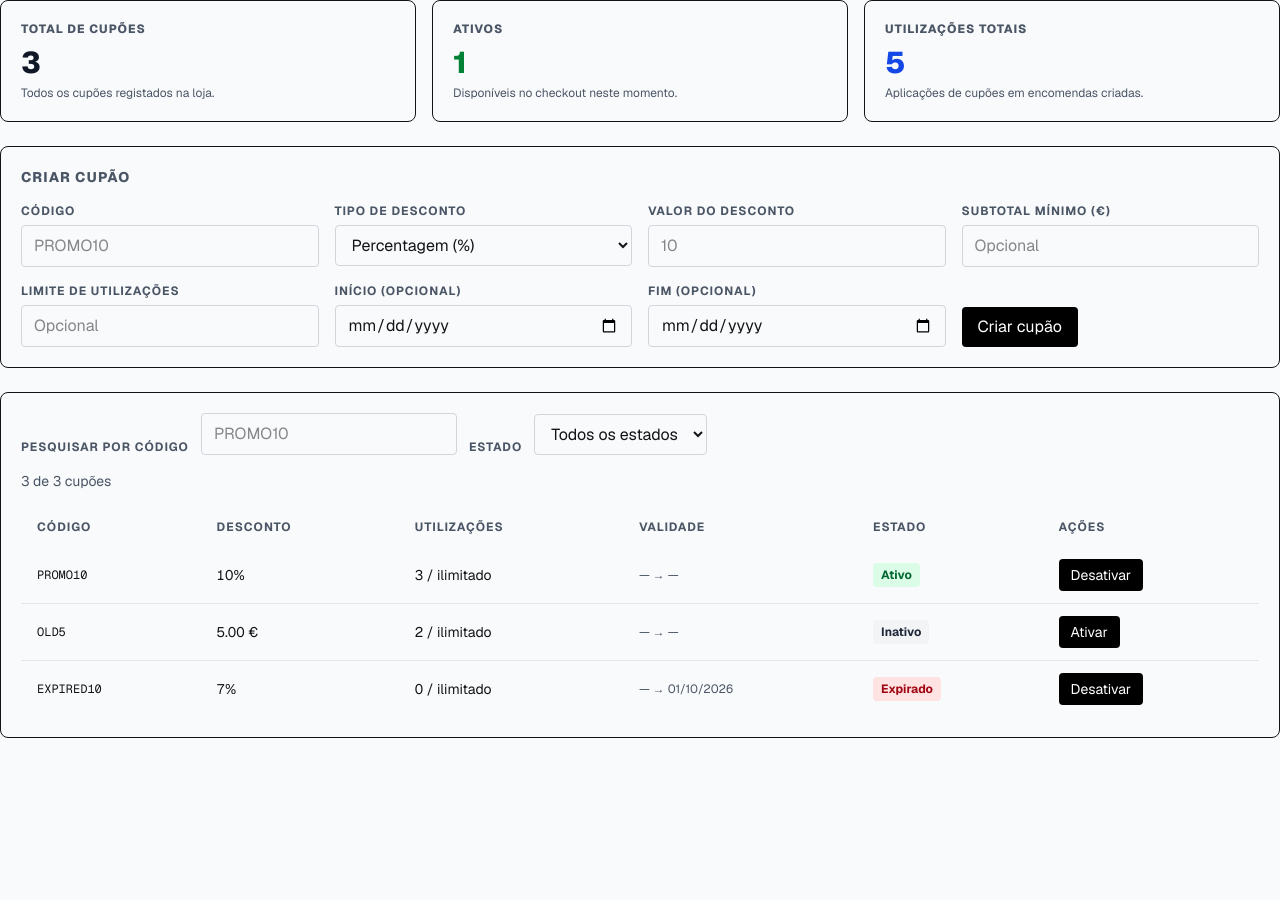
Test: Admin Coupons Client › filtra por estado e termo de pesquisa
Expected: the text "PROMO10" is shown, [21,547,201,604]
Select "Ativo" in the dropdown labelled "Estado" at [621, 434], box [534,414,707,455]
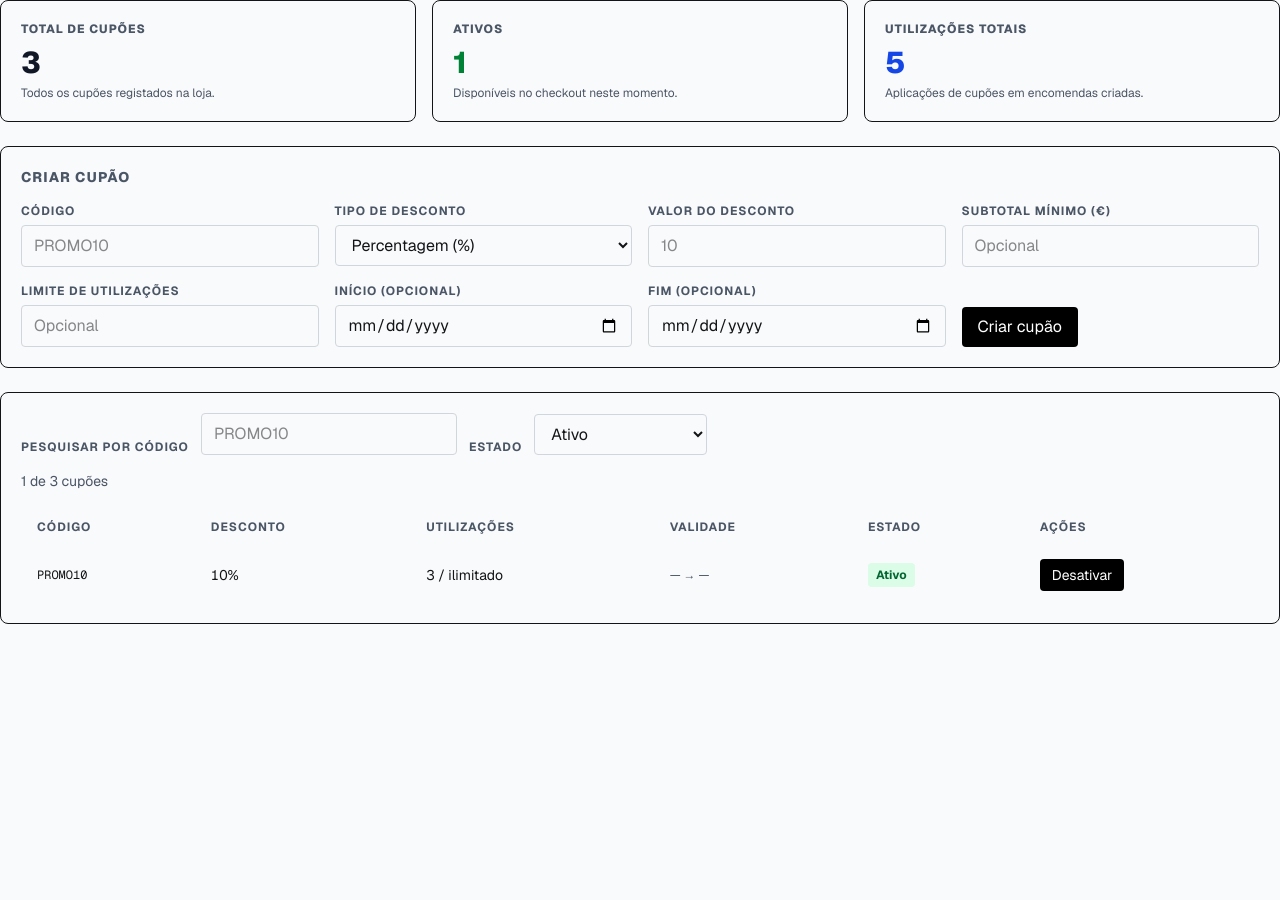
Expected: the text "PROMO10" is shown, [21,547,195,603]
Expected: the text "OLD5" is gone
Select "Todos os estados" in the dropdown labelled "Estado" at [621, 434], box [534,414,707,455]
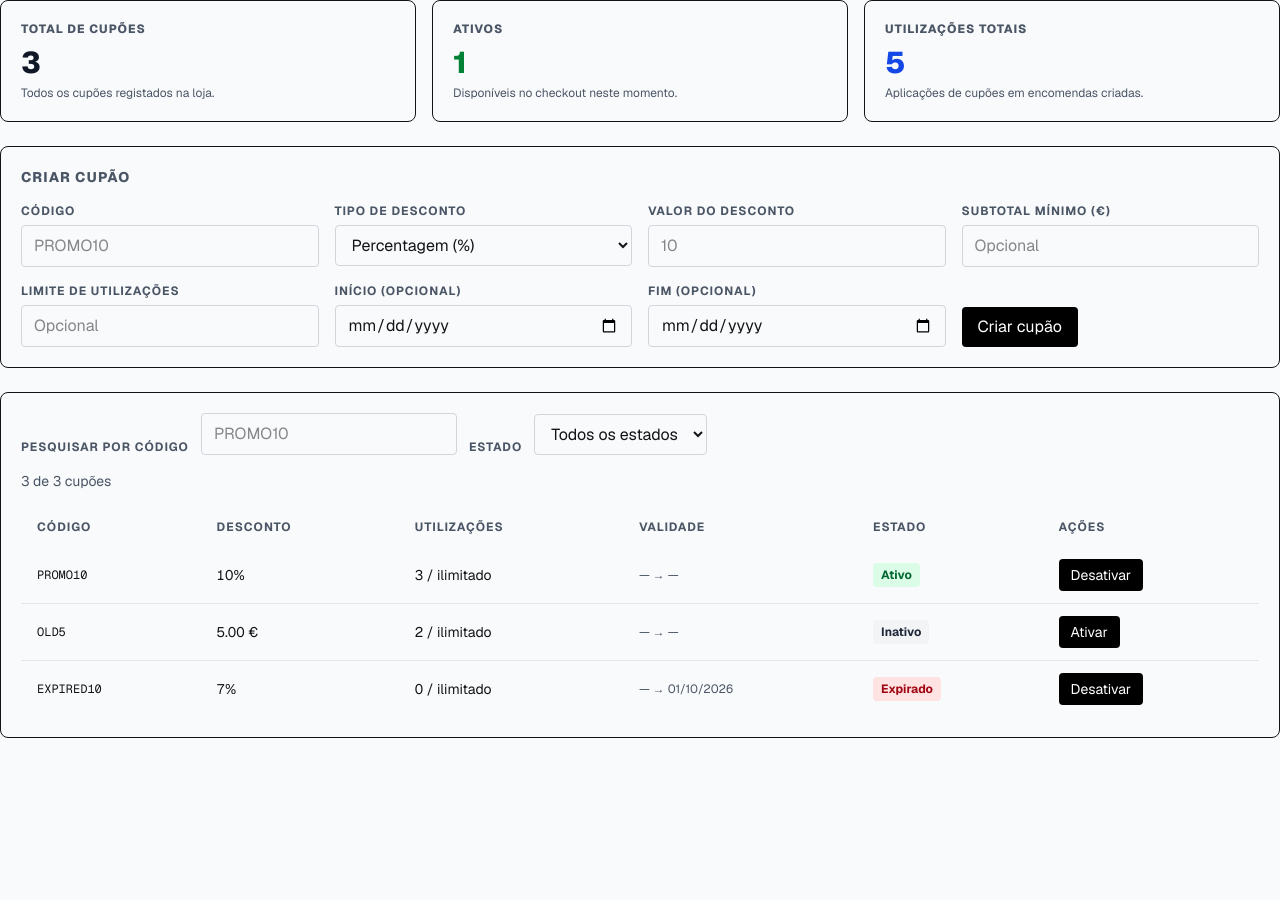
Type "old5" into the search field labelled "Pesquisar por código" at [329, 434], box [201,413,457,455]
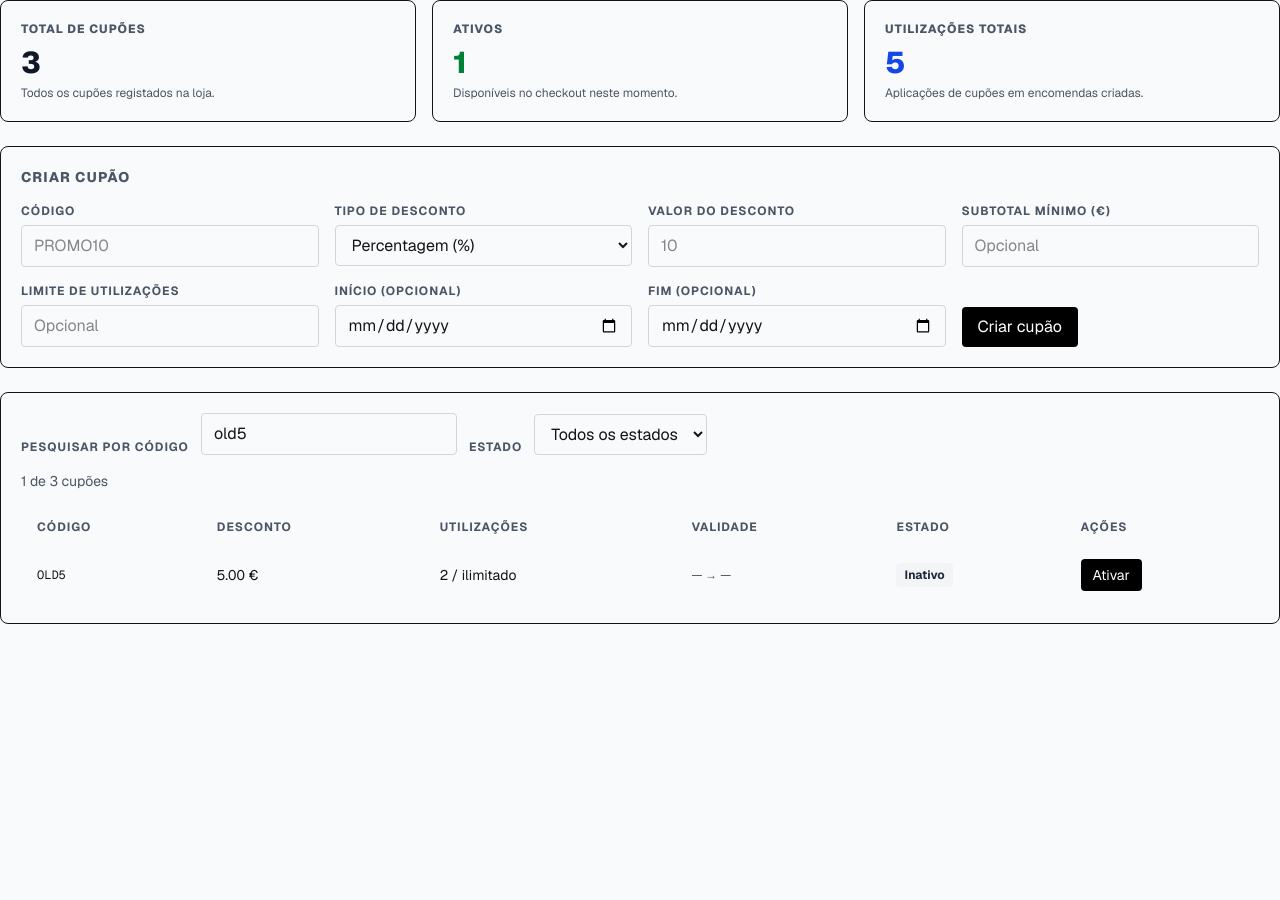
Expected: the text "OLD5" is shown, [21,547,201,603]
Expected: the text "EXPIRED10" is gone
Replace the text in the search field labelled "Pesquisar por código" with "zzz-sem-dados" at [329, 434], box [201,413,457,455]
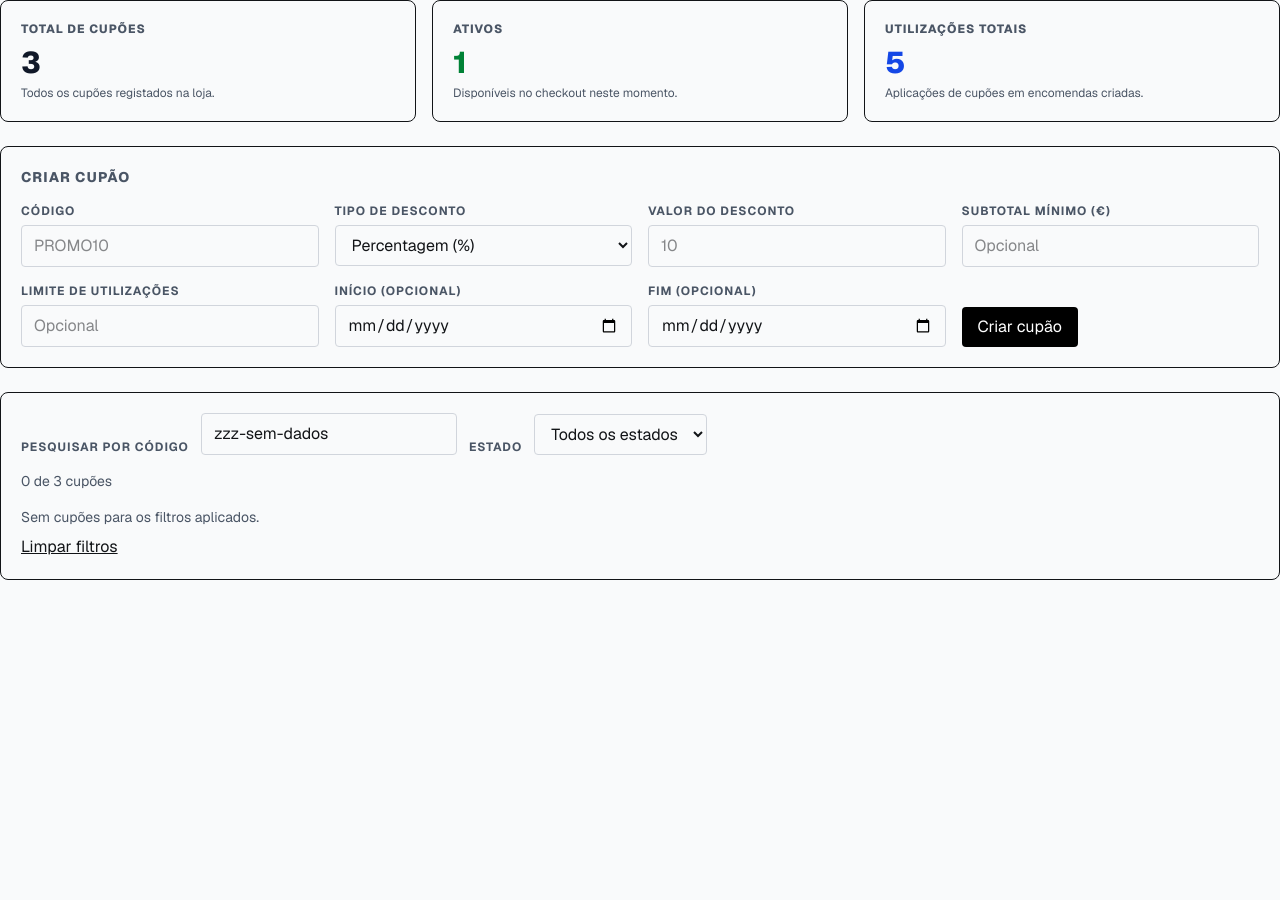
Expected: the text "Sem cupões para os filtros aplicados." is shown, [21,508,259,526]
Click the button "Limpar filtros" at [69, 547], box [21,535,118,559]
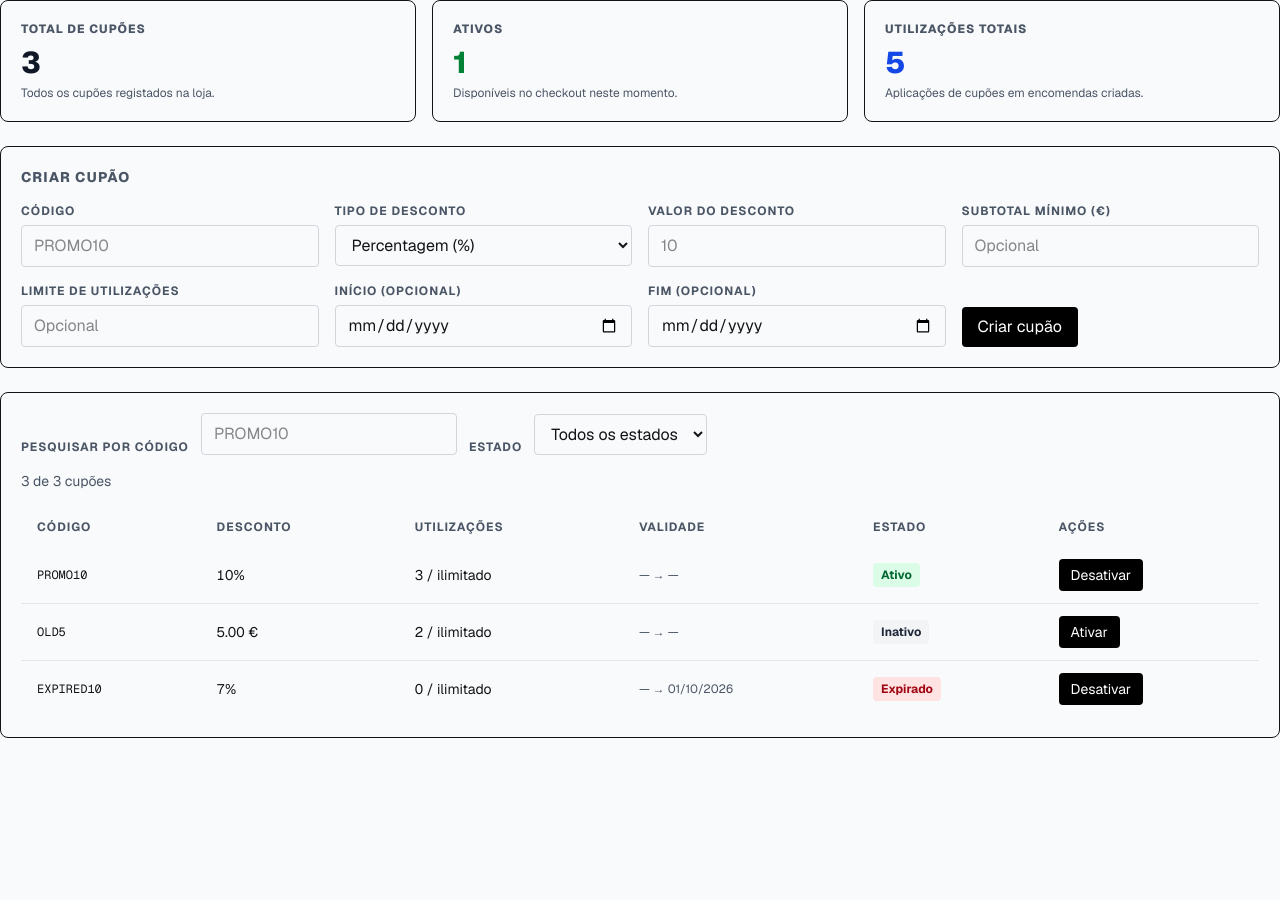
Expected: the text "EXPIRED10" is shown, [21,660,201,717]
Expected: the text "Sem cupões para os filtros aplicados." is gone
